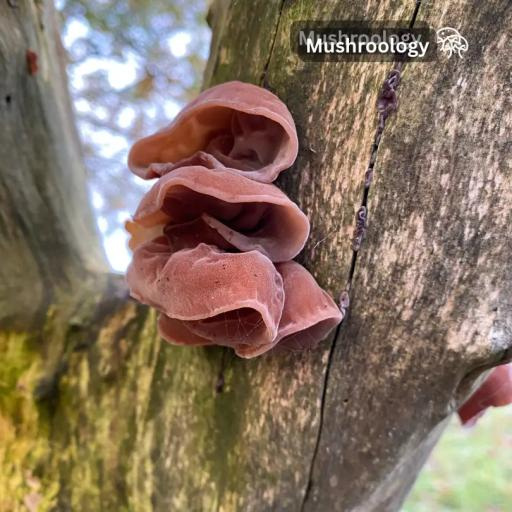Wood Ear Mushroom: (120, 172, 325, 262), (119, 249, 279, 364), (126, 82, 303, 177), (278, 261, 339, 367), (461, 366, 512, 437)
